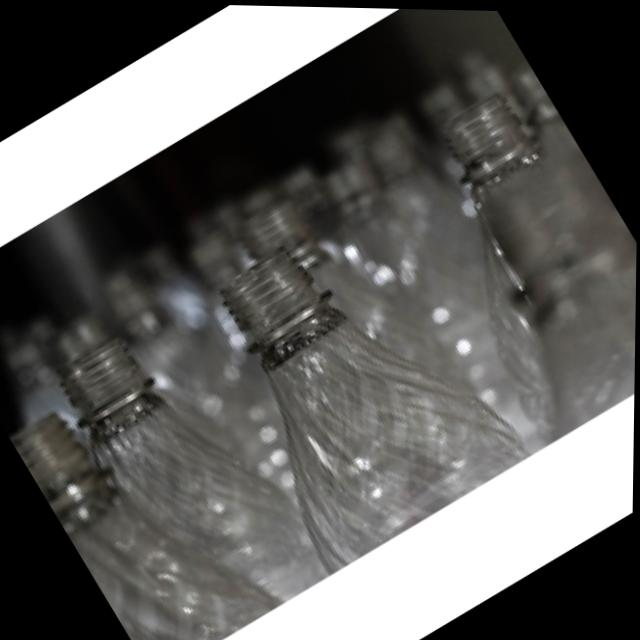plastic_water_bottles: (164, 169, 537, 571), (370, 65, 639, 444), (34, 303, 241, 533), (0, 392, 153, 588)
